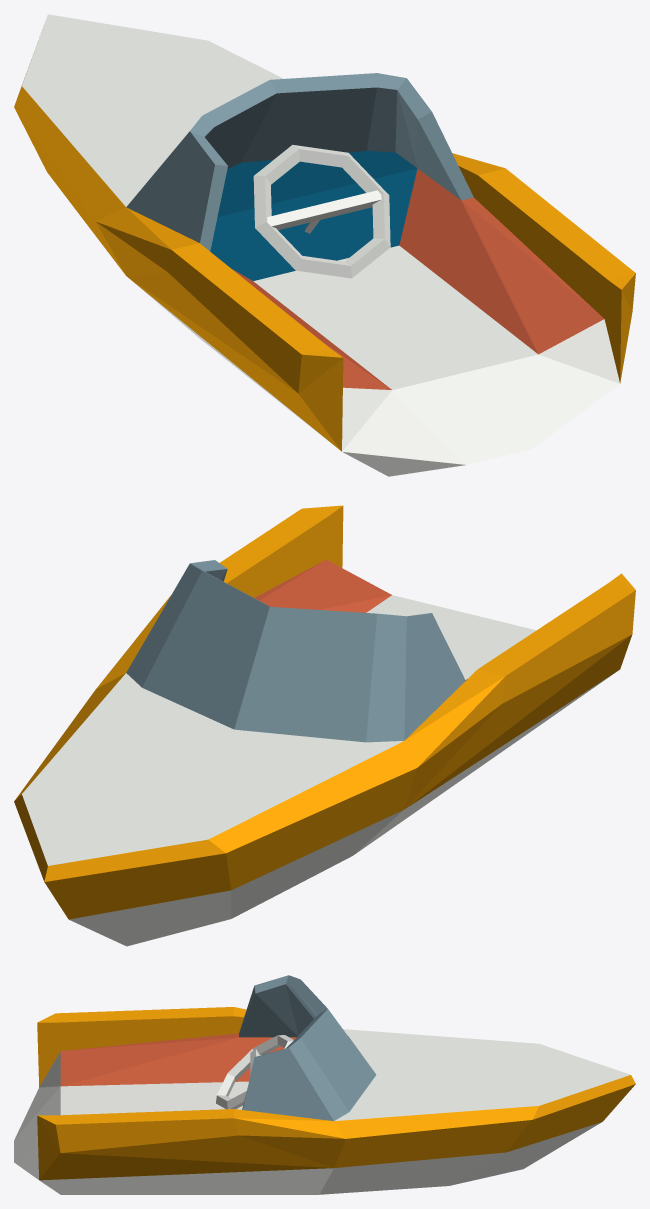
Rendered from boatB.FBX.
3 renders of one model, top to bottom at view 1: azimuth 30°, elevation 25°; view 2: azimuth 150°, elevation 25°; view 3: azimuth 270°, elevation 25°, orthographic. The views are drawn at different scales.
Parts seen in each view (by area): view 1: boatB; view 2: boatB; view 3: boatB.
Part boxes in pixels (x1,y1,x2,y2): boatB: [14, 14, 635, 476]; boatB: [14, 505, 635, 946]; boatB: [14, 975, 635, 1194].
Bounding box in the file's own units: 0.2991 × 0.201 × 0.7058.
